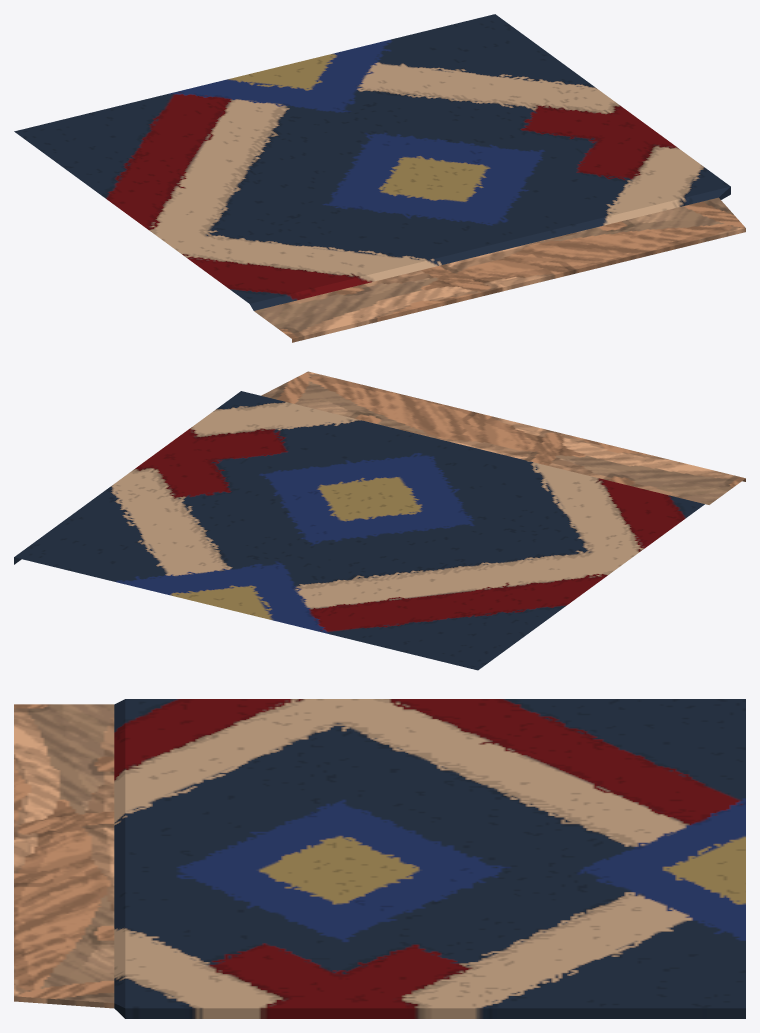
File: STFcarpet_corner_br.glb
The picture shows the model from 3 angles, top to bottom: view 1: azimuth 30°, elevation 25°; view 2: azimuth 150°, elevation 25°; view 3: azimuth 270°, elevation 25°; orthographic projection. The views are drawn at different scales.
Visible parts, largest first — view 1: STFcarpet_corner_br; view 2: STFcarpet_corner_br; view 3: STFcarpet_corner_br.
Part boxes in pixels (x1=…): STFcarpet_corner_br: x1=14, y1=14, x2=745, y2=342; STFcarpet_corner_br: x1=14, y1=371, x2=745, y2=670; STFcarpet_corner_br: x1=14, y1=699, x2=745, y2=1018.
Size of the model in its own units: 0.9 by 0.0144 by 0.9.
Materials: 2 (2 with a texture image).
